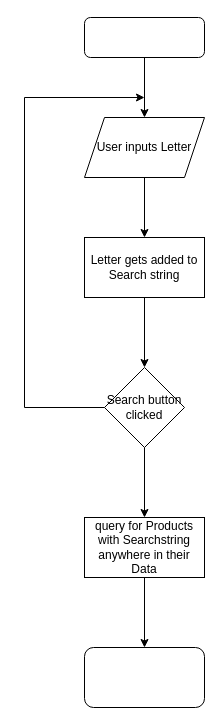
The diagram is 222 pixels wide and 725 high, and some of its shapes have lost their labels. Each missing label, with the box of its shape:
return querried Products: (84, 646, 204, 708)
Search Function is called: (84, 16, 204, 58)
